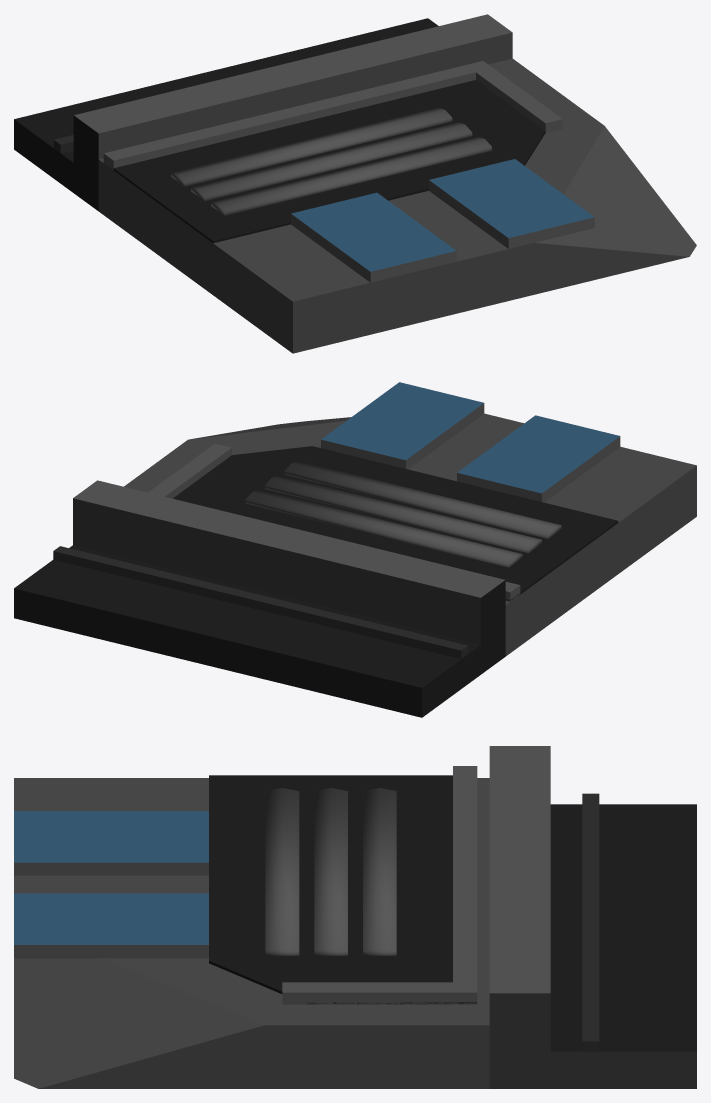
File: newsho-89.glb
The picture shows the model from 3 angles, top to bottom: view 1: azimuth 30°, elevation 25°; view 2: azimuth 150°, elevation 25°; view 3: azimuth 270°, elevation 25°; orthographic projection. The views are drawn at different scales.
Visible parts, largest first — view 1: newsho-89; view 2: newsho-89; view 3: newsho-89.
Part boxes in pixels (<box>): newsho-89: <box>14,14,696,353</box>; newsho-89: <box>14,382,696,717</box>; newsho-89: <box>14,746,696,1088</box>.
Size of the model in its own units: 2 by 0.36 by 2.33.
